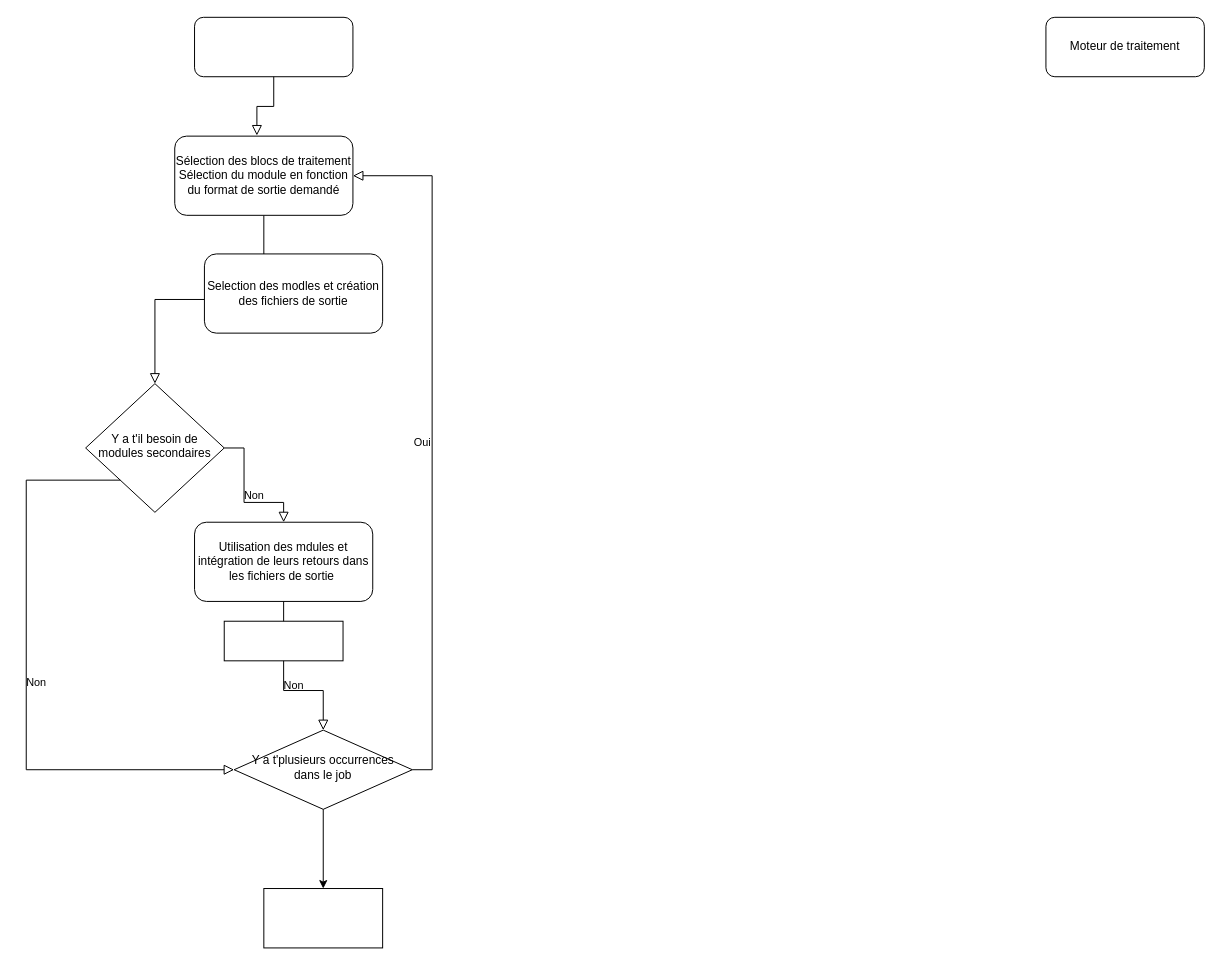
Image size: 1222x965. Some labels were removed from this diagram. The centre of each missing label's shape, as x and y in pixels:
"Ajout du fichier dans l'objet de sortie" belongs at point (283, 640).
"Envoi de l'objet de sortie au module de retour" belongs at point (323, 918).
"Nouveau job arrive Réception objet" belongs at point (273, 46).
